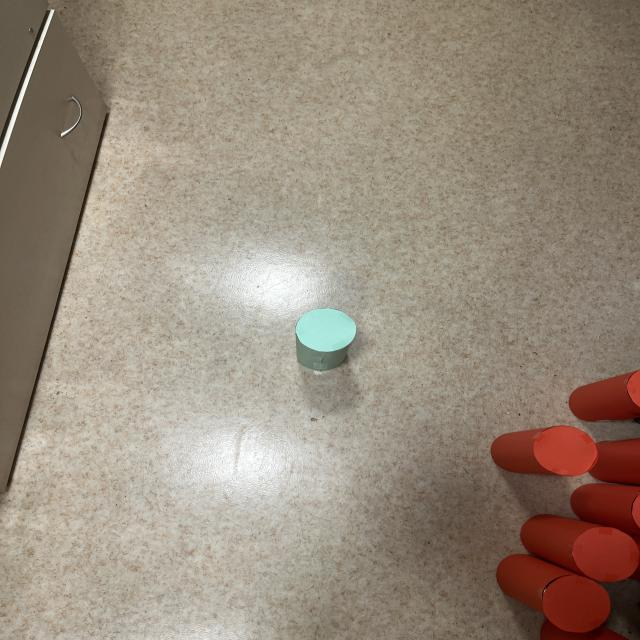meta: (296, 308, 356, 371)
